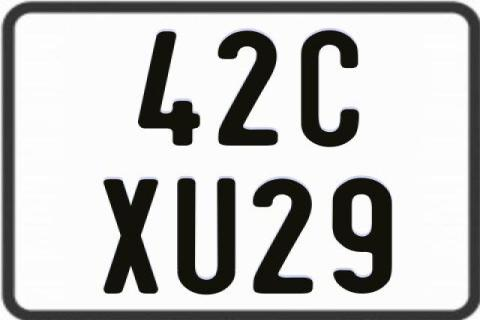0: (138, 31, 206, 146), (331, 177, 396, 297), (218, 29, 281, 145), (253, 176, 314, 293)
C: (300, 29, 359, 147)
U: (177, 177, 240, 293)
X: (104, 177, 160, 295)
